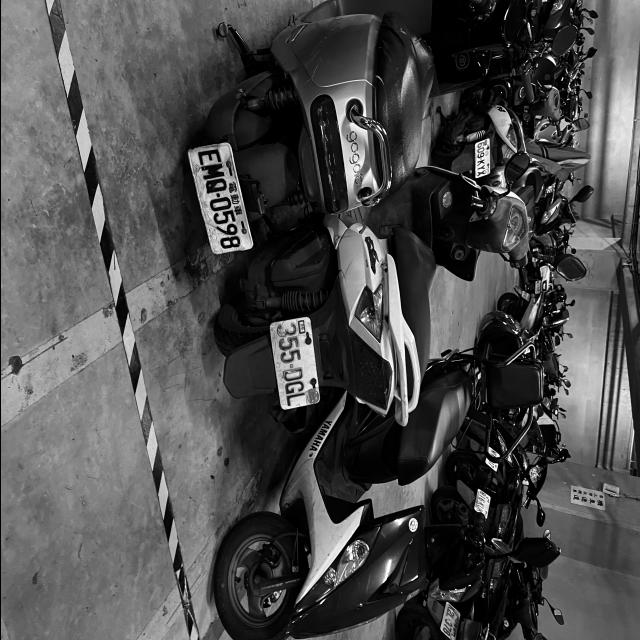-: (214, 191, 220, 199), (288, 362, 294, 368), (478, 158, 481, 161), (447, 618, 449, 621)
0: (207, 196, 231, 214), (476, 146, 484, 154)
1: (478, 494, 484, 500)
2: (446, 607, 453, 618)
3: (276, 322, 296, 337), (443, 618, 452, 628)
5: (210, 208, 235, 227), (278, 336, 298, 351), (279, 351, 300, 364)
6: (476, 142, 484, 149), (477, 496, 484, 503)
7: (443, 623, 451, 633)
8: (219, 235, 242, 251), (441, 626, 450, 638), (478, 490, 485, 497)
9: (214, 222, 238, 237), (476, 152, 484, 159)
D: (281, 366, 303, 383)
E: (196, 148, 222, 167)
G: (282, 380, 305, 396)
K: (446, 604, 455, 614), (476, 159, 484, 167), (476, 500, 483, 508)
L: (284, 392, 304, 407), (445, 612, 453, 620)
M: (200, 161, 225, 181)
Q: (203, 177, 227, 196)
U: (476, 504, 483, 511)
X: (476, 169, 485, 177)
Y: (476, 164, 484, 171)
plate: (190, 145, 249, 255), (274, 320, 320, 408), (474, 138, 489, 180)
